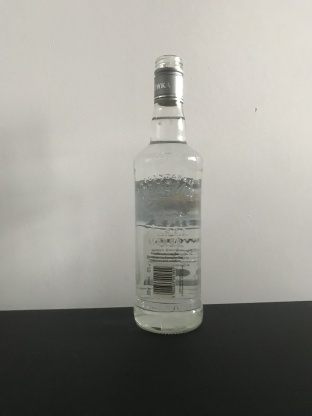nakretka: (152, 52, 185, 107)
